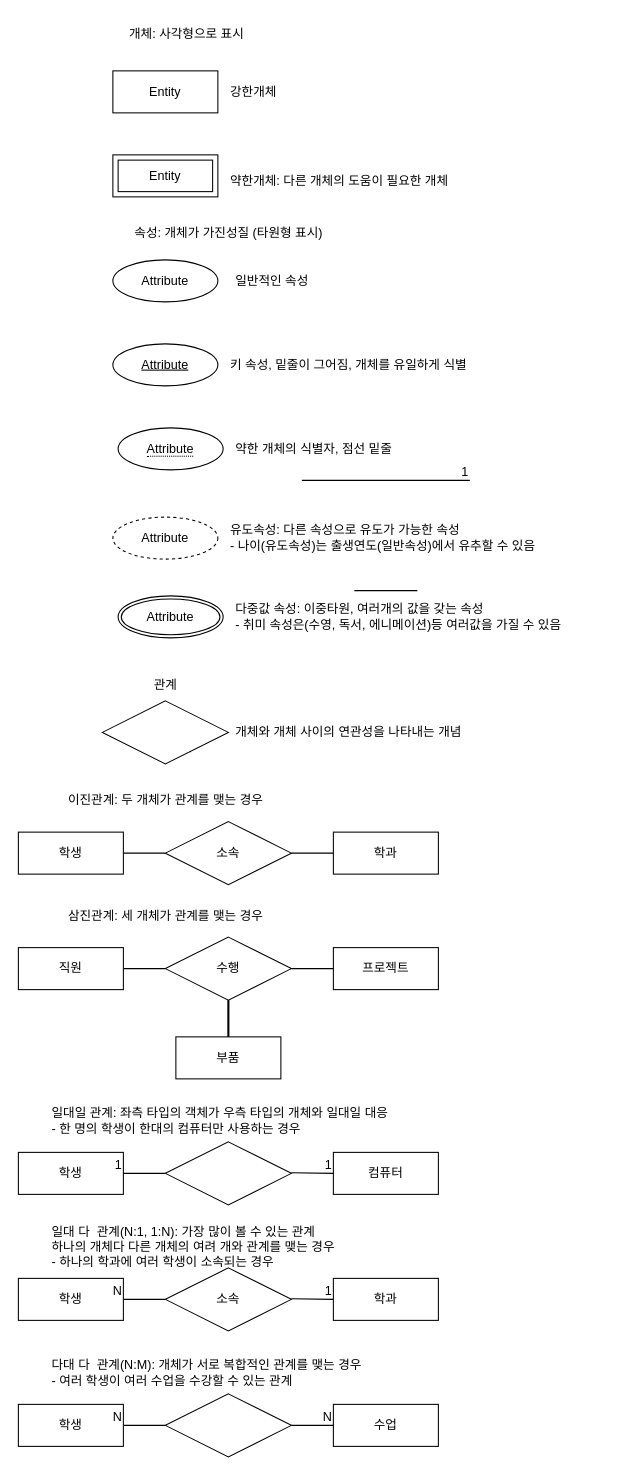
Some shapes in this 630 by 1475 pixel diagram are drawn without their labels. The shapes that lost their labels are listed below. From the top down, each one's centre as x and y in pixels, then its label:
At point (164, 732): "Relationship".
At point (227, 1173): "사용".
At point (227, 1425): "수강".
